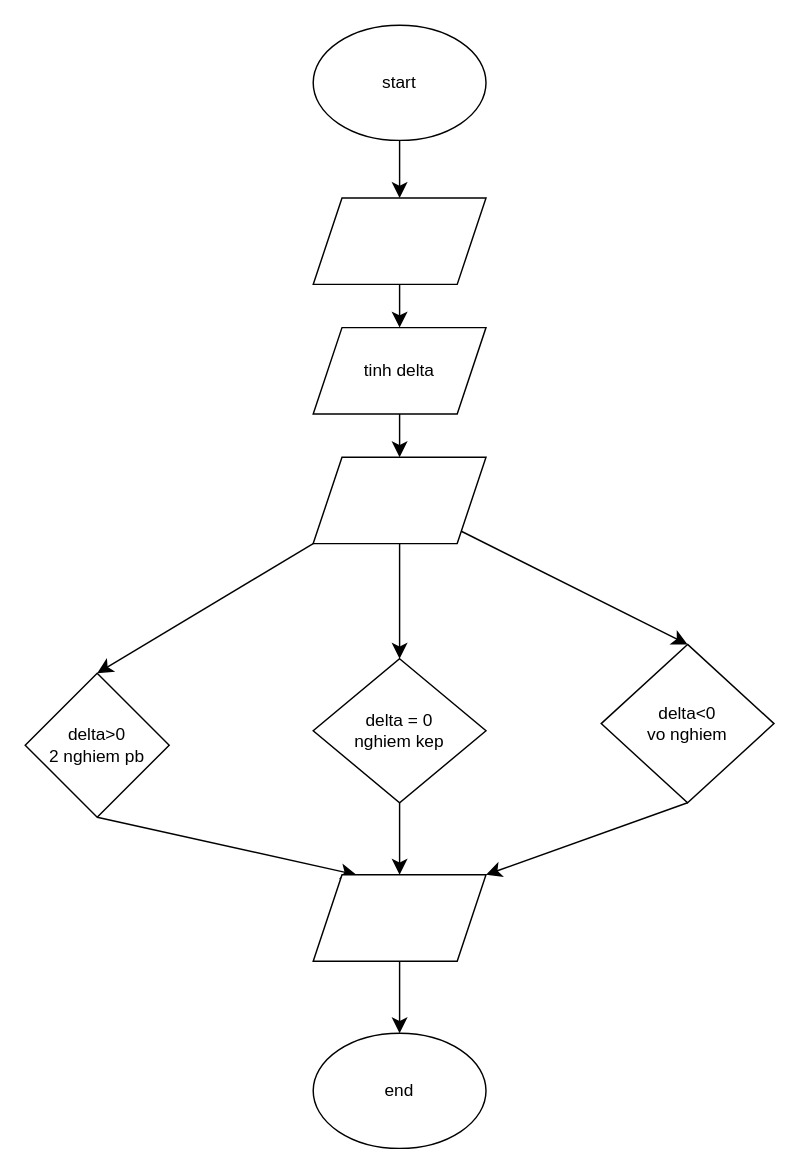
This 799x1174 diagram has some shape labels left out. Each missing label, with the centre of its shape:
"input a, b,delta" belongs at [399,240].
"output" belongs at [399,917].
"xet delta" belongs at [399,500].
